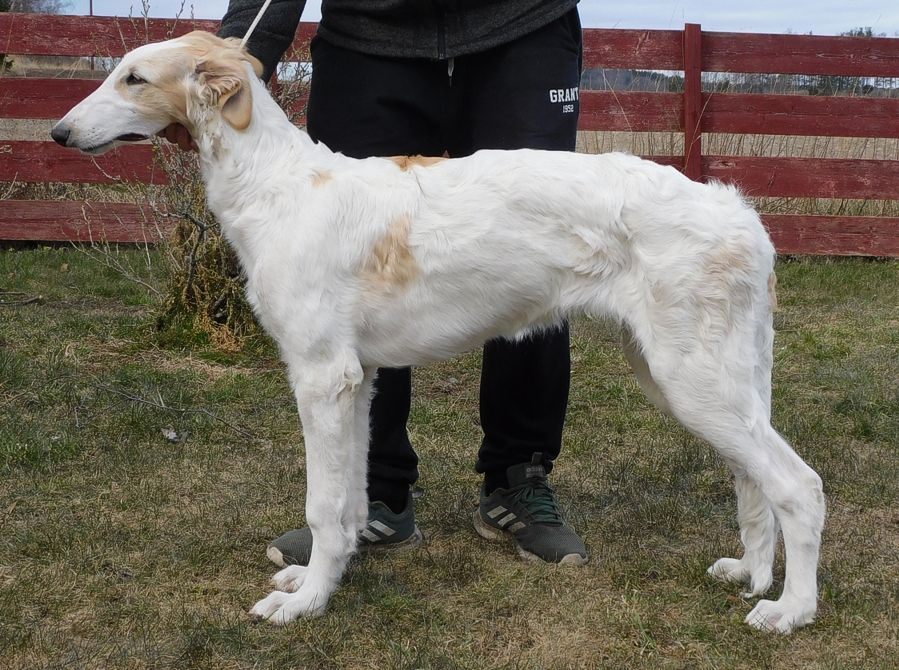borzoi: (29, 17, 855, 643)
